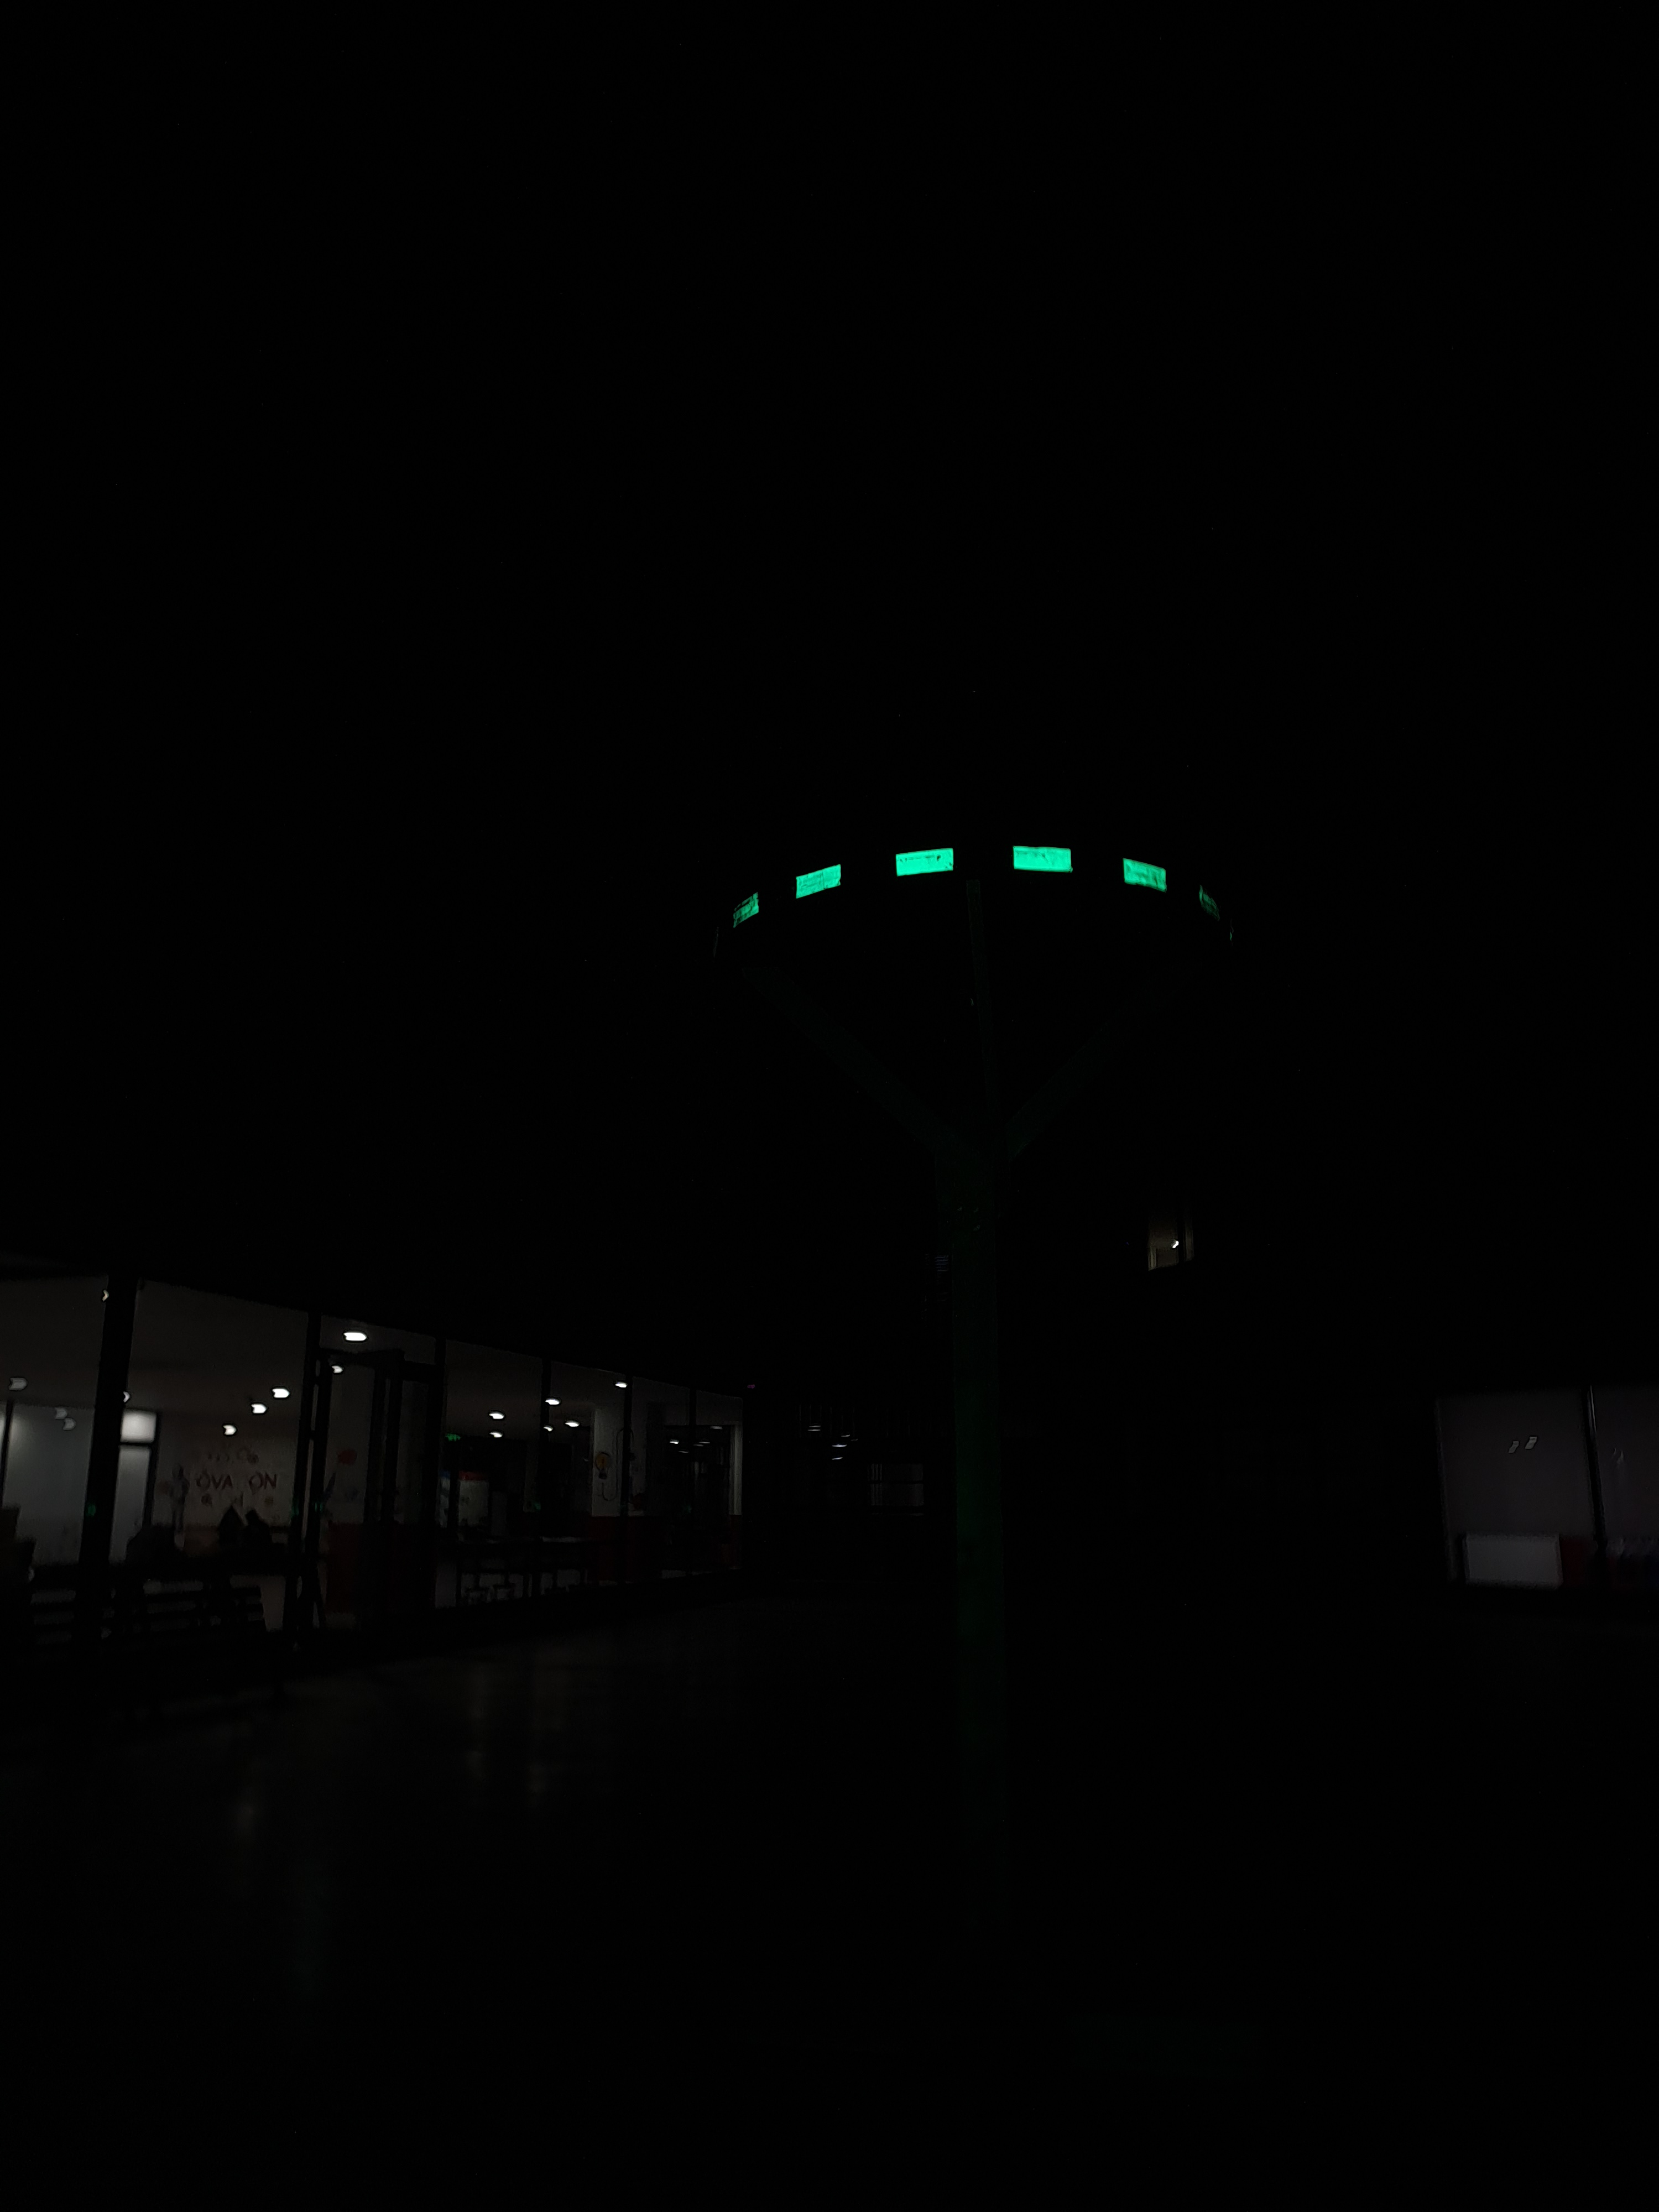hoop: (725, 836, 1178, 960)
